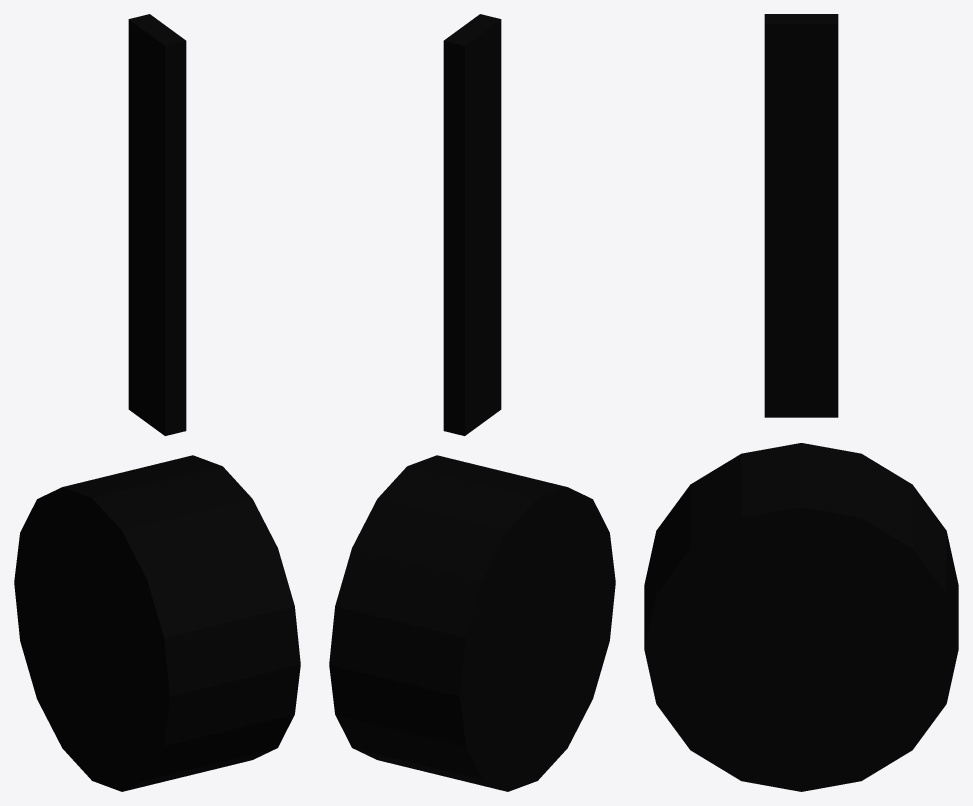
File: horario.obj
The picture shows the model from 3 angles, left to right: view 1: azimuth 30°, elevation 25°; view 2: azimuth 150°, elevation 25°; view 3: azimuth 270°, elevation 25°; orthographic projection.
Parts seen in each view (by area): view 1: Cube; view 2: Cube; view 3: Cube.
Part boxes in pixels (x1,y1,x2,y2): Cube: [14, 14, 300, 791]; Cube: [329, 14, 615, 791]; Cube: [644, 14, 958, 791].
Bounding box in the file's own units: 0.0484 × 0.26 × 0.1.
1 material, 1 textured.
